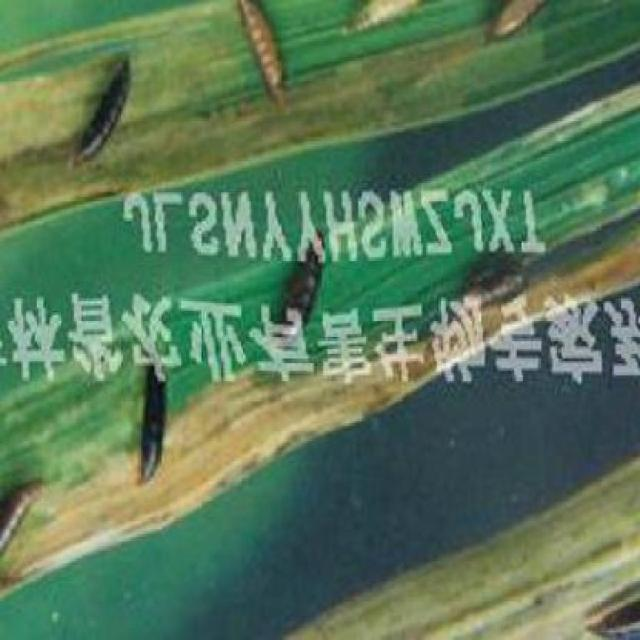whorl-maggot: (65, 50, 141, 167), (232, 1, 302, 125), (338, 0, 435, 58), (132, 372, 174, 499), (0, 463, 52, 561), (484, 1, 559, 52)
